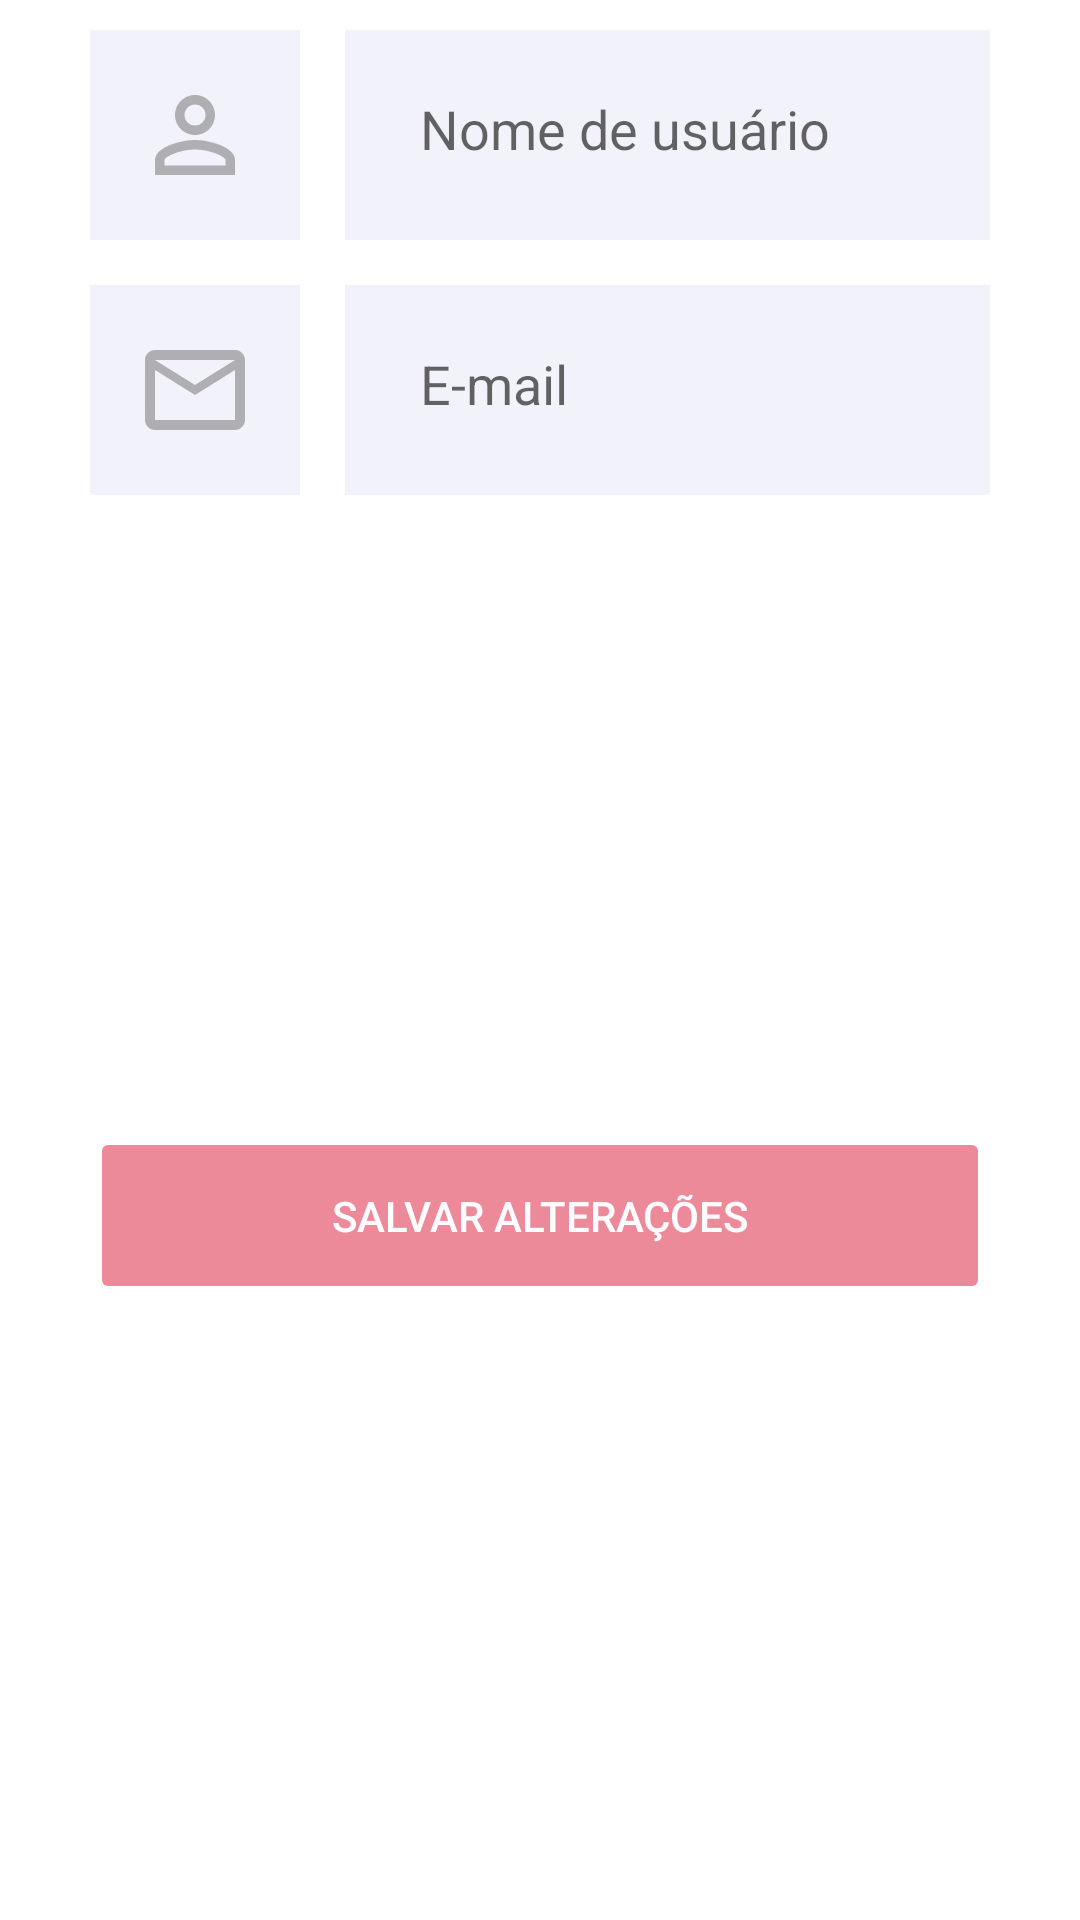

Icons on this 1080 × 1920 Android screen, each with the point to tap as (x,y):
person: (195,135)
